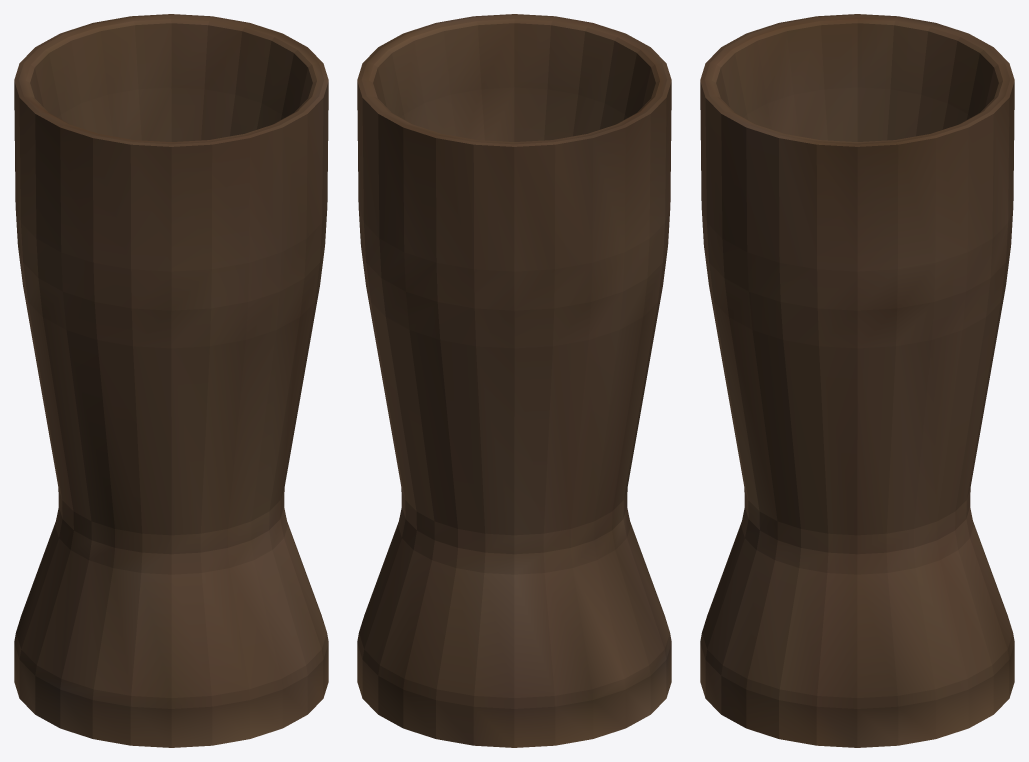
The model's file is mortar_c1b42be1.glb.
3 views of the same model, side by side, from view 1: azimuth 30°, elevation 25°; view 2: azimuth 150°, elevation 25°; view 3: azimuth 270°, elevation 25° (orthographic).
Visible parts, largest first — view 1: SM_Mortar_M_Mortar_0; view 2: SM_Mortar_M_Mortar_0; view 3: SM_Mortar_M_Mortar_0.
Boxes of the visible parts, left/top/right/bottom form: SM_Mortar_M_Mortar_0: left=14, top=14, right=328, bottom=747; SM_Mortar_M_Mortar_0: left=357, top=14, right=671, bottom=747; SM_Mortar_M_Mortar_0: left=700, top=14, right=1014, bottom=747.
Size of the model in its own units: 0.36 by 0.7595 by 0.36.
